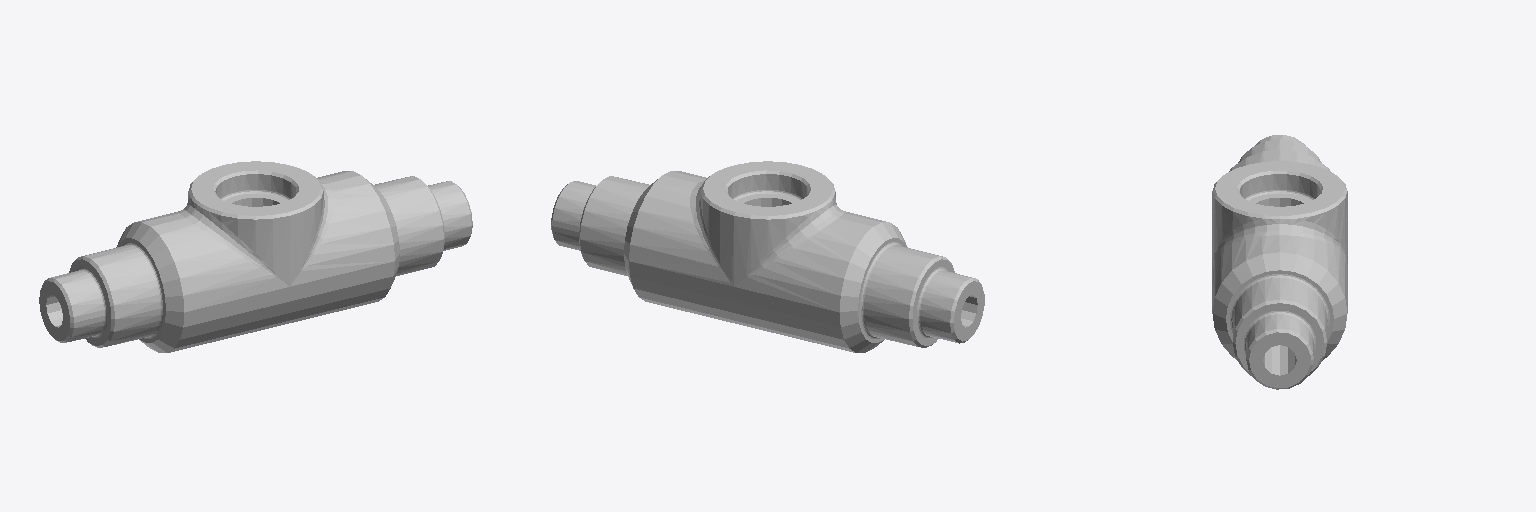
Rendered from right_hand_roll_link.obj.
3 renders of one model, left to right at view 1: azimuth 30°, elevation 25°; view 2: azimuth 150°, elevation 25°; view 3: azimuth 270°, elevation 25°, orthographic.
Visible parts, largest first — view 1: right_hand_roll_link; view 2: right_hand_roll_link; view 3: right_hand_roll_link.
Part boxes in pixels (x1,y1,x2,y2): right_hand_roll_link: (39,161,472,352); right_hand_roll_link: (551,161,984,352); right_hand_roll_link: (1212,135,1347,389).
Bounding box in the file's own units: 0.0344 × 0.011 × 0.01.